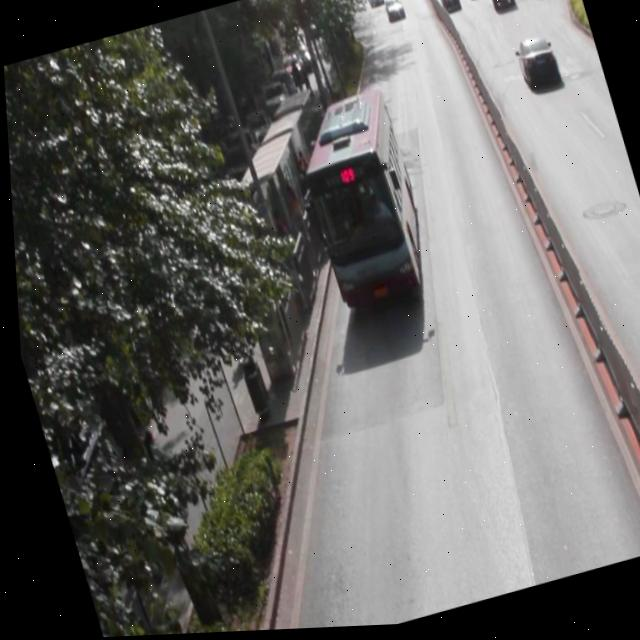car: (510, 34, 560, 95)
van: (283, 86, 432, 311)
